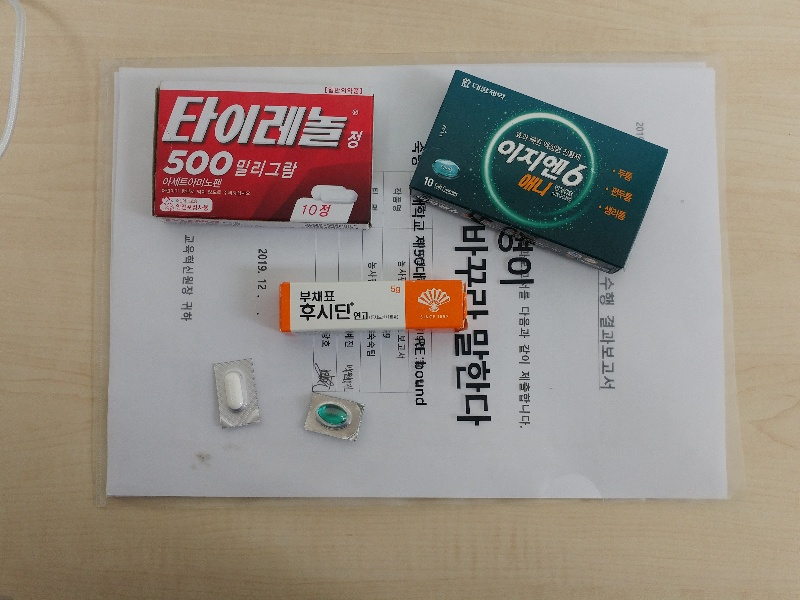ezn: (411, 71, 669, 268)
fucidin: (280, 280, 463, 328)
pill_ezn: (303, 393, 364, 440)
pill_tylenol: (214, 358, 261, 427)
tylenol: (155, 81, 375, 223)
